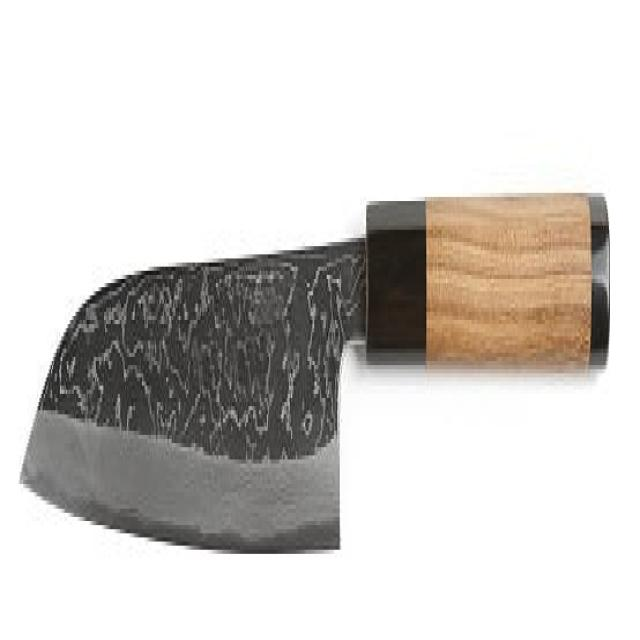knife: (13, 184, 615, 563)
